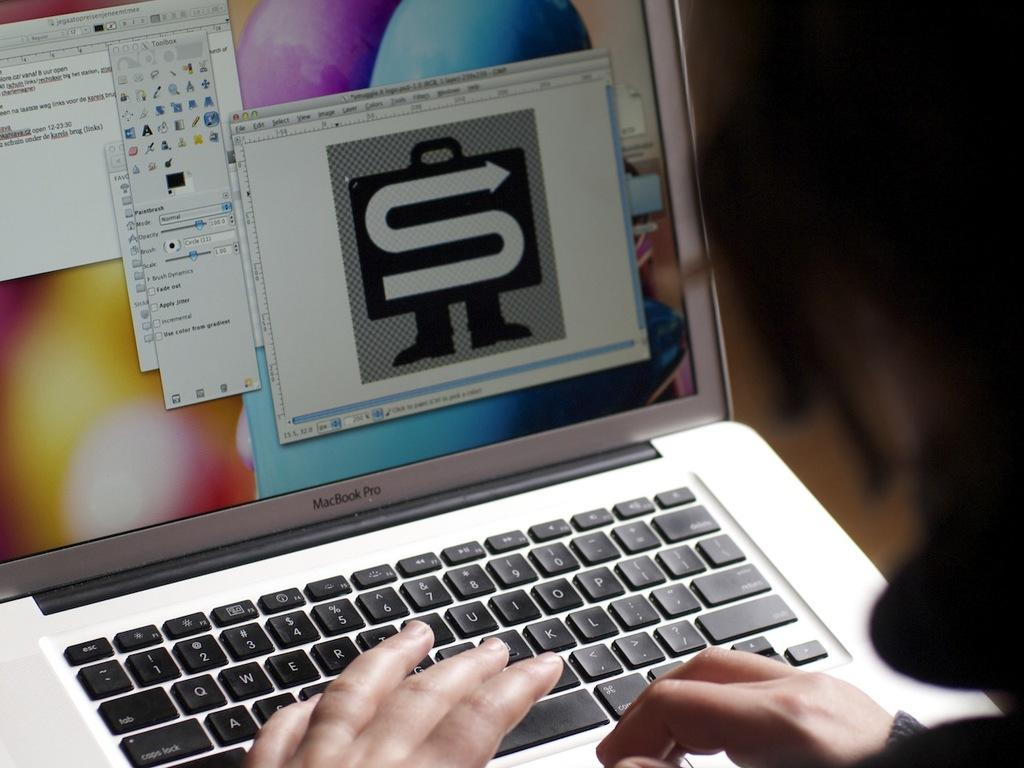Laptop: (0, 0, 1006, 758)
